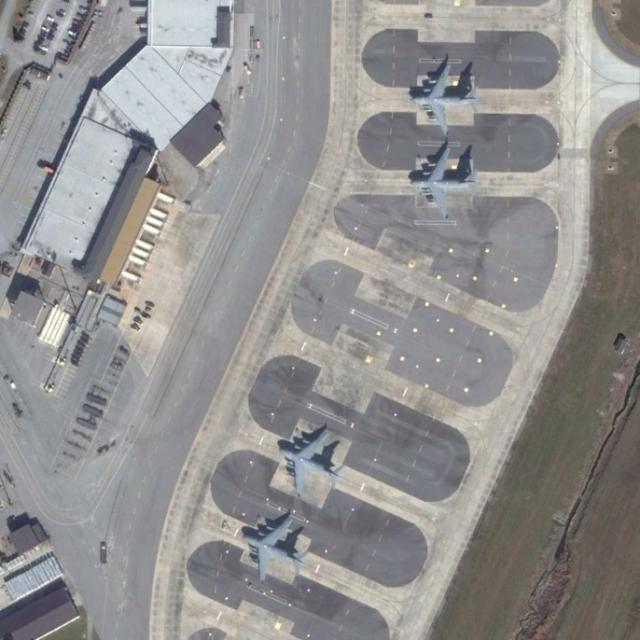fighter jet: (397, 139, 483, 215), (234, 504, 309, 579), (266, 418, 341, 491), (400, 66, 482, 124)
